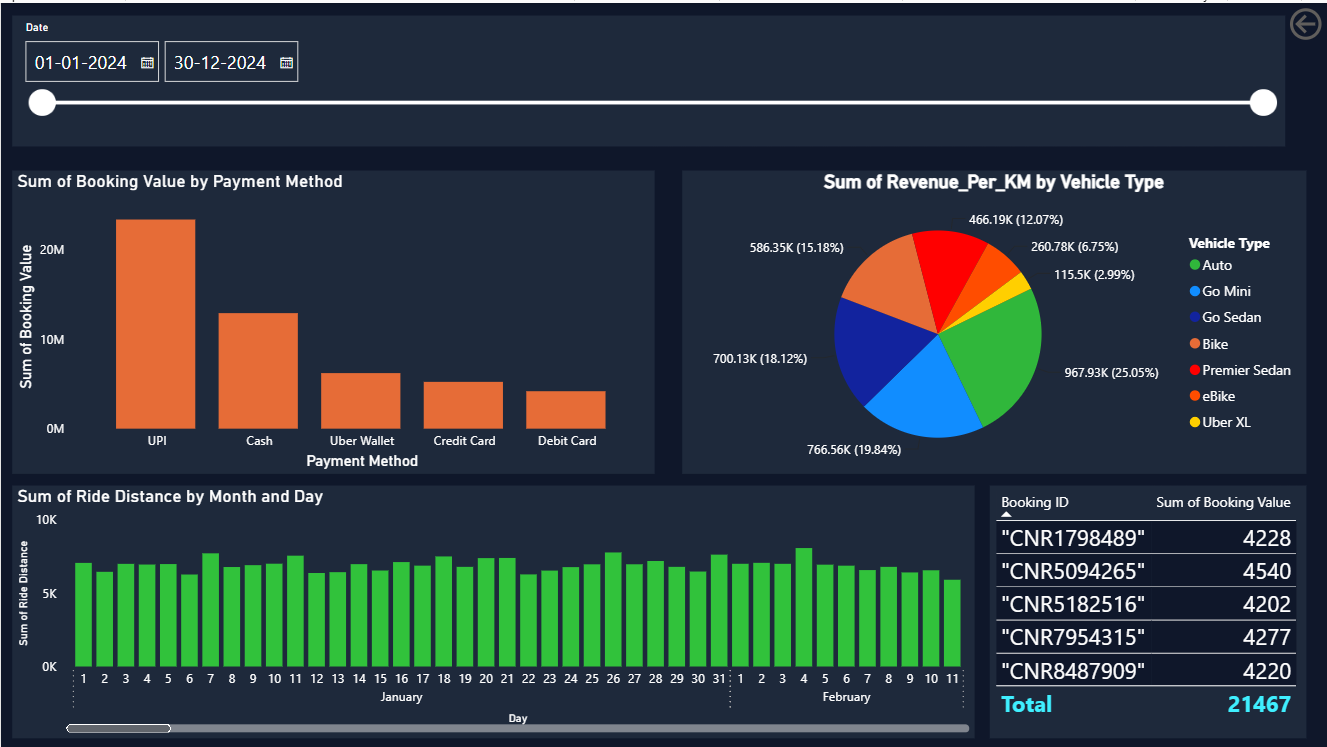

Layout of this report page (visuals, bound fields, positions):
{"tool":"powerbi","page":{"name":"Revenue","canvas":[1280,720],"ordinal":3},"visuals":[{"type":"clusteredColumnChart","fields":{"Category":["rideBookings.Date.Variation.Date Hierarchy.Month","rideBookings.Date.Variation.Date Hierarchy.Day"],"Y":["Sum(rideBookings.Ride Distance)"]},"box":[10.9,465.7,929,243.7],"z":0},{"type":"clusteredColumnChart","fields":{"Category":["rideBookings.Payment Method"],"Y":["Sum(rideBookings.Booking Value)"]},"box":[10.9,161.7,620.1,293.2],"z":1000},{"type":"slicer","fields":{"Values":["rideBookings.Date"]},"box":[208.7,12.1,1030.3,125.5],"z":2000},{"type":"tableEx","fields":{"Values":["rideBookings.Booking ID","Sum(rideBookings.Booking Value)"]},"box":[954.3,465.7,305.2,243.7],"z":3000},{"type":"image","box":[0,0,191.4,149.6],"z":4000},{"type":"pieChart","fields":{"Y":["Sum(rideBookings.Revenue_Per_KM)"],"Category":["rideBookings.Vehicle Type"]},"box":[657.5,161.7,602,293.2],"z":5000},{"type":"actionButton","box":[1238.4,0,41.8,40.6],"z":6000}]}

Visuals, with their boxes in screenshot pixels (x1, y1, x2, y2), scaled from the page's 1280x720 canvas onto the 1327x747 screenshot:
clusteredColumnChart - rideBookings.Date.Variation.Date Hierarchy.Month x rideBookings.Date.Variation.Date Hierarchy.Day: (x1=11, y1=483, x2=974, y2=736)
clusteredColumnChart - rideBookings.Payment Method x Sum(rideBookings.Booking Value): (x1=11, y1=168, x2=654, y2=472)
slicer - rideBookings.Date: (x1=216, y1=13, x2=1284, y2=143)
tableEx - rideBookings.Booking ID x Sum(rideBookings.Booking Value): (x1=989, y1=483, x2=1306, y2=736)
image: (x1=0, y1=0, x2=198, y2=155)
pieChart - Sum(rideBookings.Revenue_Per_KM) x rideBookings.Vehicle Type: (x1=682, y1=168, x2=1306, y2=472)
actionButton: (x1=1284, y1=0, x2=1326, y2=42)
